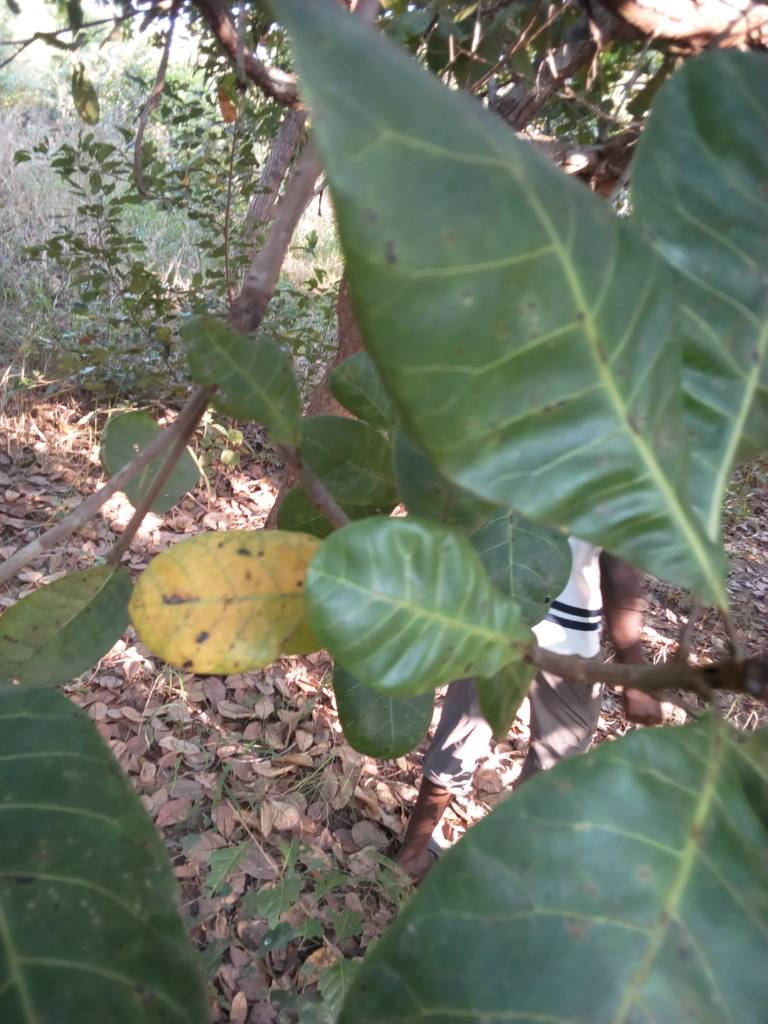Pestalotiose: (135, 527, 318, 675)
